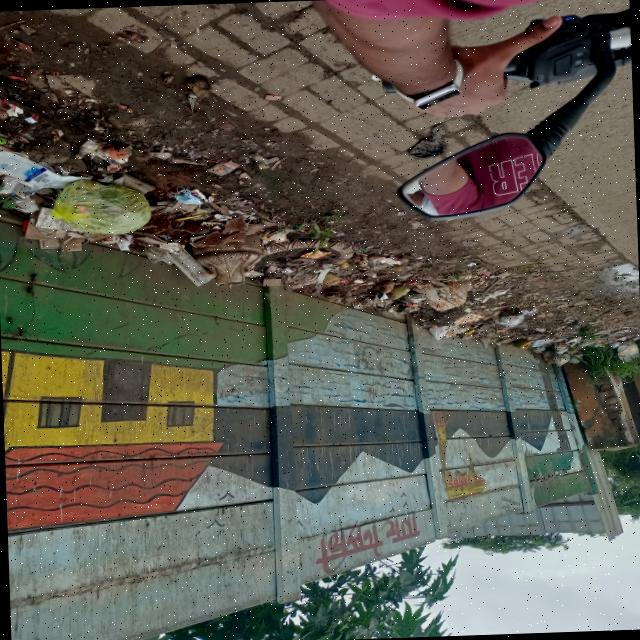garbage: (254, 226, 623, 379), (1, 112, 307, 284)
